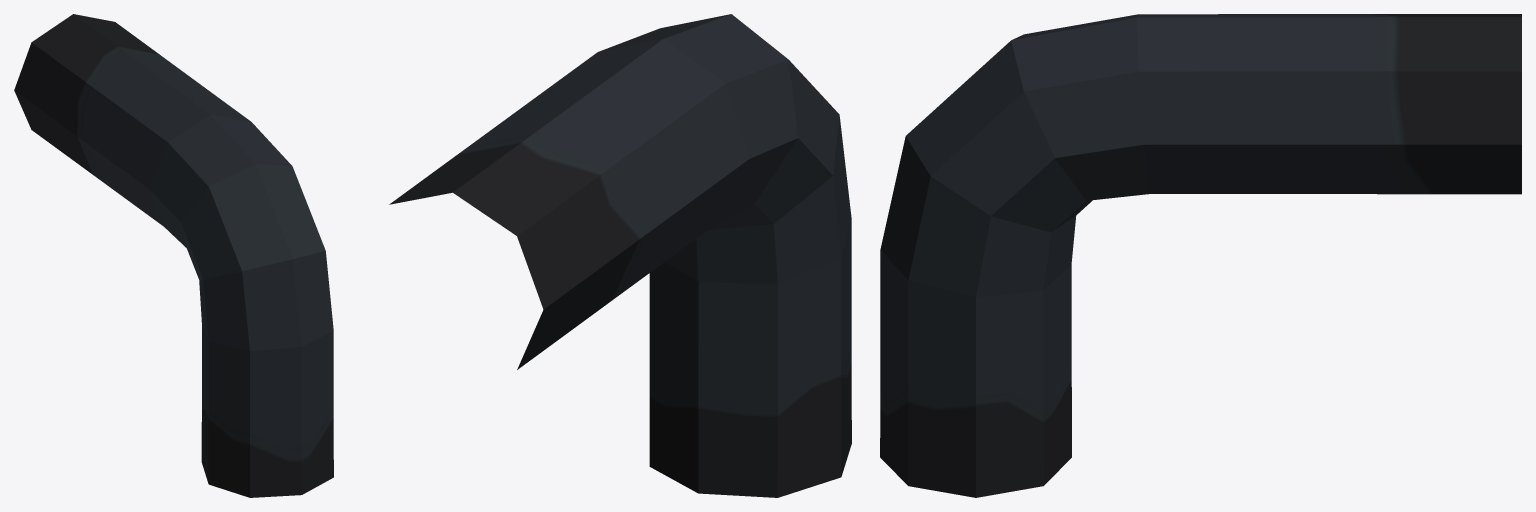
File: SM_Stove_Pipe_B_01.gltf
The picture shows the model from 3 angles, left to right: view 1: azimuth 30°, elevation 25°; view 2: azimuth 150°, elevation 25°; view 3: azimuth 270°, elevation 25°; orthographic projection. The views are drawn at different scales.
Parts seen in each view (by area): view 1: SM_Stove_Pipe_B_01; view 2: SM_Stove_Pipe_B_01; view 3: SM_Stove_Pipe_B_01.
Part boxes in pixels (x1=…): SM_Stove_Pipe_B_01: x1=14, y1=14, x2=333, y2=497; SM_Stove_Pipe_B_01: x1=389, y1=14, x2=851, y2=497; SM_Stove_Pipe_B_01: x1=880, y1=14, x2=1521, y2=497.
Size of the model in its own units: 0.246 by 0.623 by 0.823.
1 material, 1 textured.
